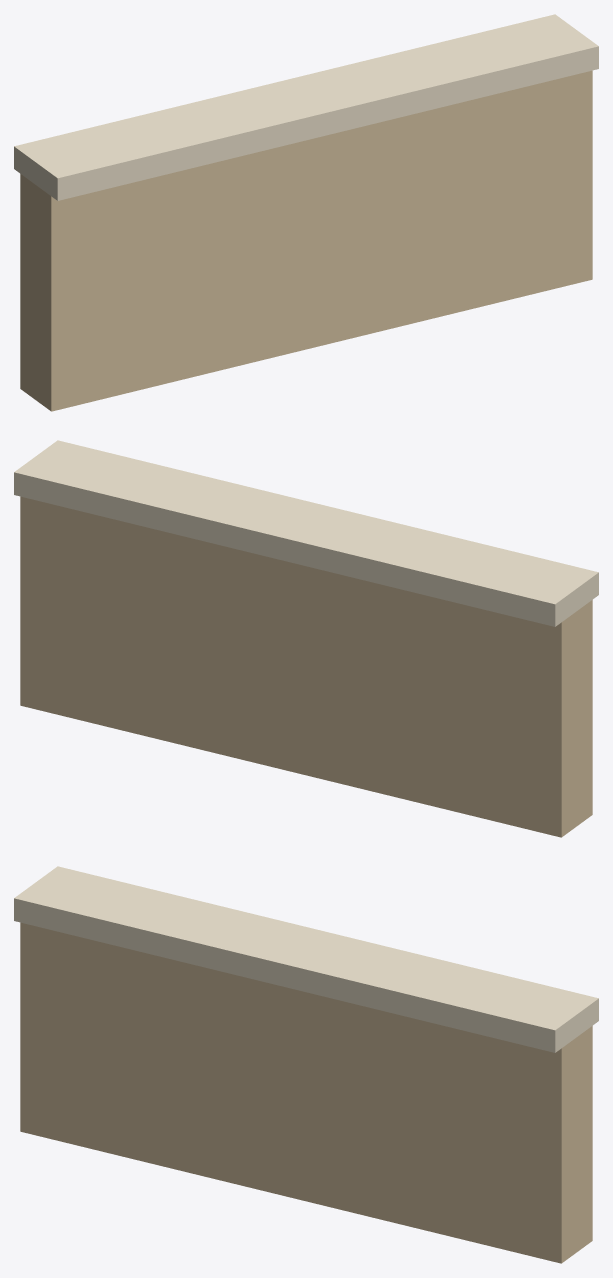
File: Parapet.glb
The picture shows the model from 3 angles, top to bottom: view 1: azimuth 30°, elevation 25°; view 2: azimuth 150°, elevation 25°; view 3: azimuth 330°, elevation 25°; orthographic projection.
Parts seen in each view (by area): view 1: PBK_parapet.003, PBK_coping.003; view 2: PBK_parapet.003, PBK_coping.003; view 3: PBK_parapet.003, PBK_coping.003.
Part boxes in pixels (x1=…): PBK_parapet.003: x1=20, y1=70, x2=592, y2=411; PBK_coping.003: x1=14, y1=14, x2=598, y2=200; PBK_parapet.003: x1=20, y1=496, x2=592, y2=837; PBK_coping.003: x1=14, y1=440, x2=598, y2=626; PBK_parapet.003: x1=20, y1=922, x2=592, y2=1263; PBK_coping.003: x1=14, y1=866, x2=598, y2=1052.
Bounding box in the file's own units: 2 × 0.84 × 0.28.
